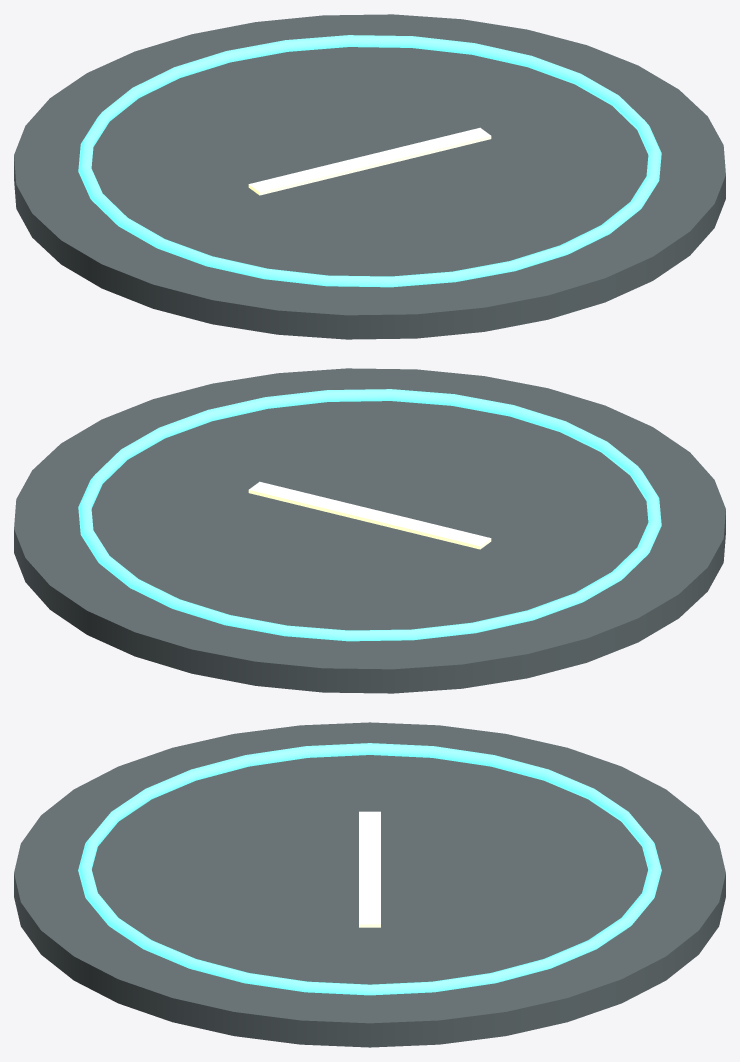
File: pad.lod1.glb
3 renders of one model, top to bottom at view 1: azimuth 30°, elevation 25°; view 2: azimuth 150°, elevation 25°; view 3: azimuth 270°, elevation 25°, orthographic.
Visible parts, largest first — view 1: structure; view 2: structure; view 3: structure.
Boxes of the visible parts, <box> form: structure: <box>14,14,725,339</box>; structure: <box>14,368,725,693</box>; structure: <box>14,722,725,1047</box>.
Bounding box in the file's own units: 8 × 0.4061 × 8.
